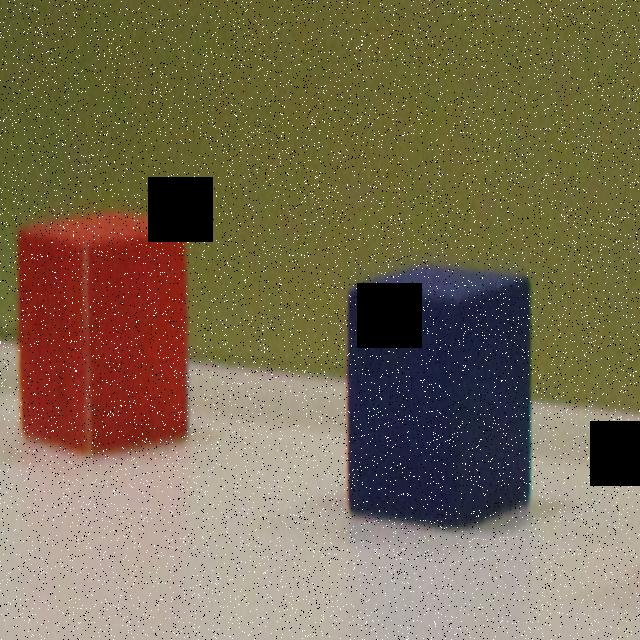bluecube: (347, 256, 529, 534)
red cube: (19, 204, 191, 447)
